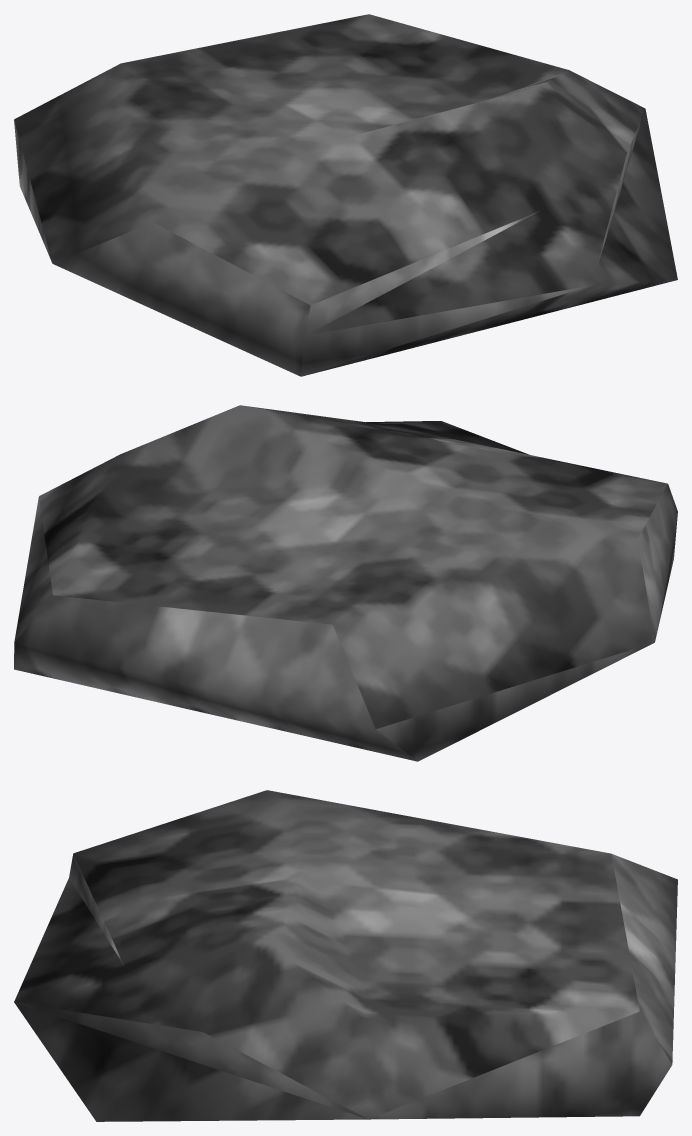
Rendered from sunflowerBread.glb.
The picture shows the model from 3 angles, top to bottom: view 1: azimuth 30°, elevation 25°; view 2: azimuth 150°, elevation 25°; view 3: azimuth 270°, elevation 25°; orthographic projection. The views are drawn at different scales.
Visible parts, largest first — view 1: Cube; view 2: Cube; view 3: Cube.
Boxes of the visible parts, bbox=[...] form: Cube: bbox=[14, 14, 677, 376]; Cube: bbox=[14, 405, 677, 761]; Cube: bbox=[14, 790, 677, 1121].
Bounding box in the file's own units: 0.3499 × 0.0892 × 0.3243.
Materials: 1 (1 with a texture image).
